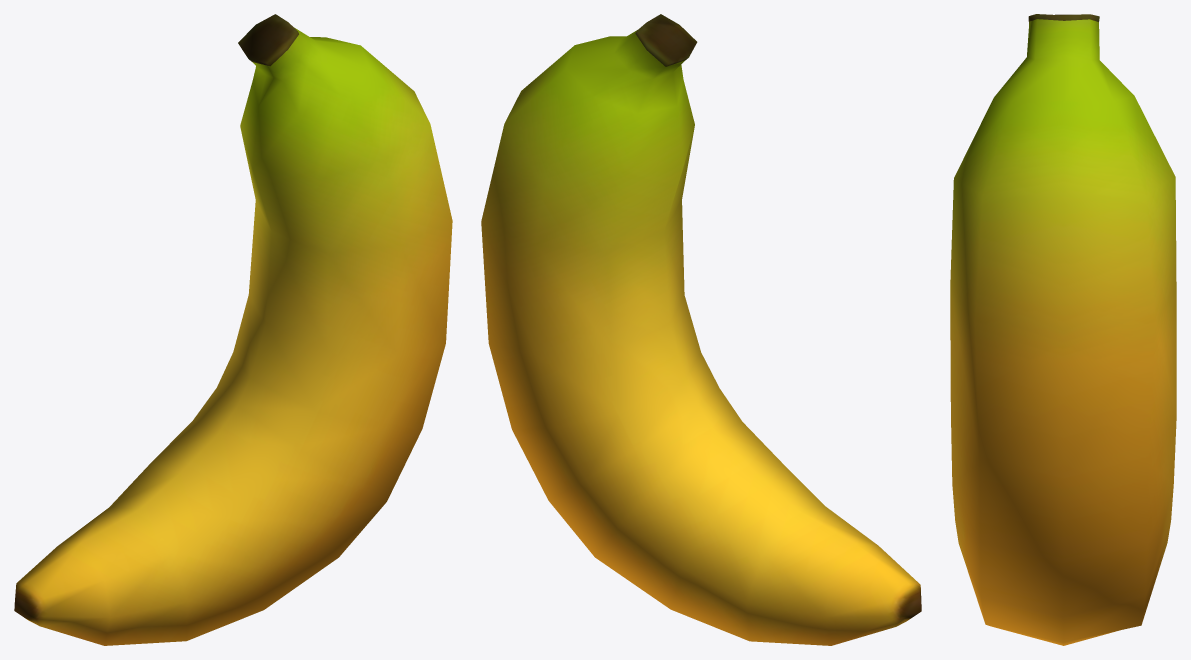
File: banana-transformed.glb
3 views of the same model, side by side, from view 1: azimuth 30°, elevation 25°; view 2: azimuth 150°, elevation 25°; view 3: azimuth 270°, elevation 25° (orthographic). The views are drawn at different scales.
Parts seen in each view (by area): view 1: Cube.002; view 2: Cube.002; view 3: Cube.002.
Boxes of the visible parts, left/top/right/bottom form: Cube.002: left=14, top=14, right=452, bottom=645; Cube.002: left=481, top=14, right=921, bottom=645; Cube.002: left=950, top=14, right=1176, bottom=645.
Size of the model in its own units: 0.00795 by 0.0104 by 0.00316.
1 material, 1 textured.
